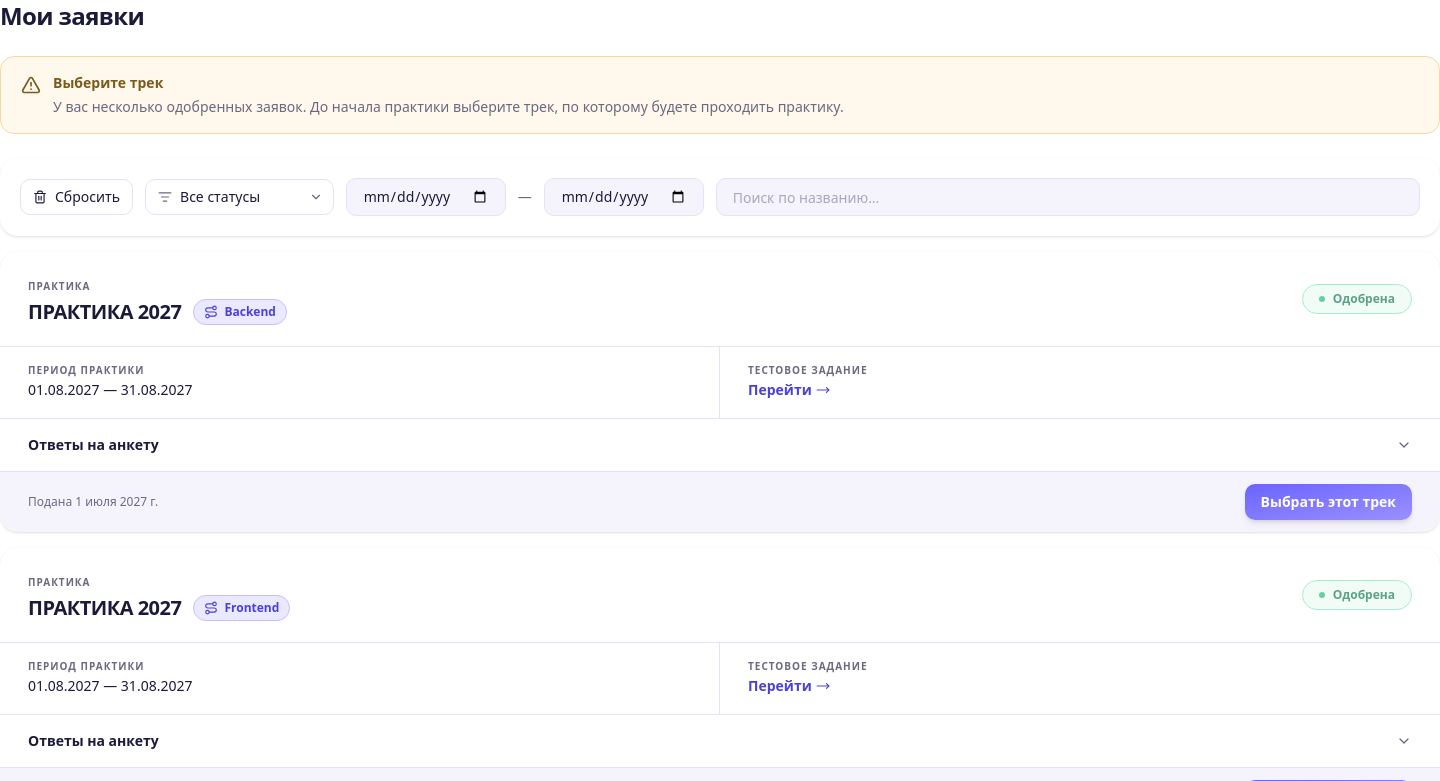
Scenario: DashboardApplicationsPage (архив заявок студента) › запрашивает подтверждение перед выбором одного из нескольких одобренных треков
What coordinates should you click on to do the following:
click the 1st button "Выбрать этот трек"
I would click on:
 (1328, 502)
Its box is [1245,484,1412,520].
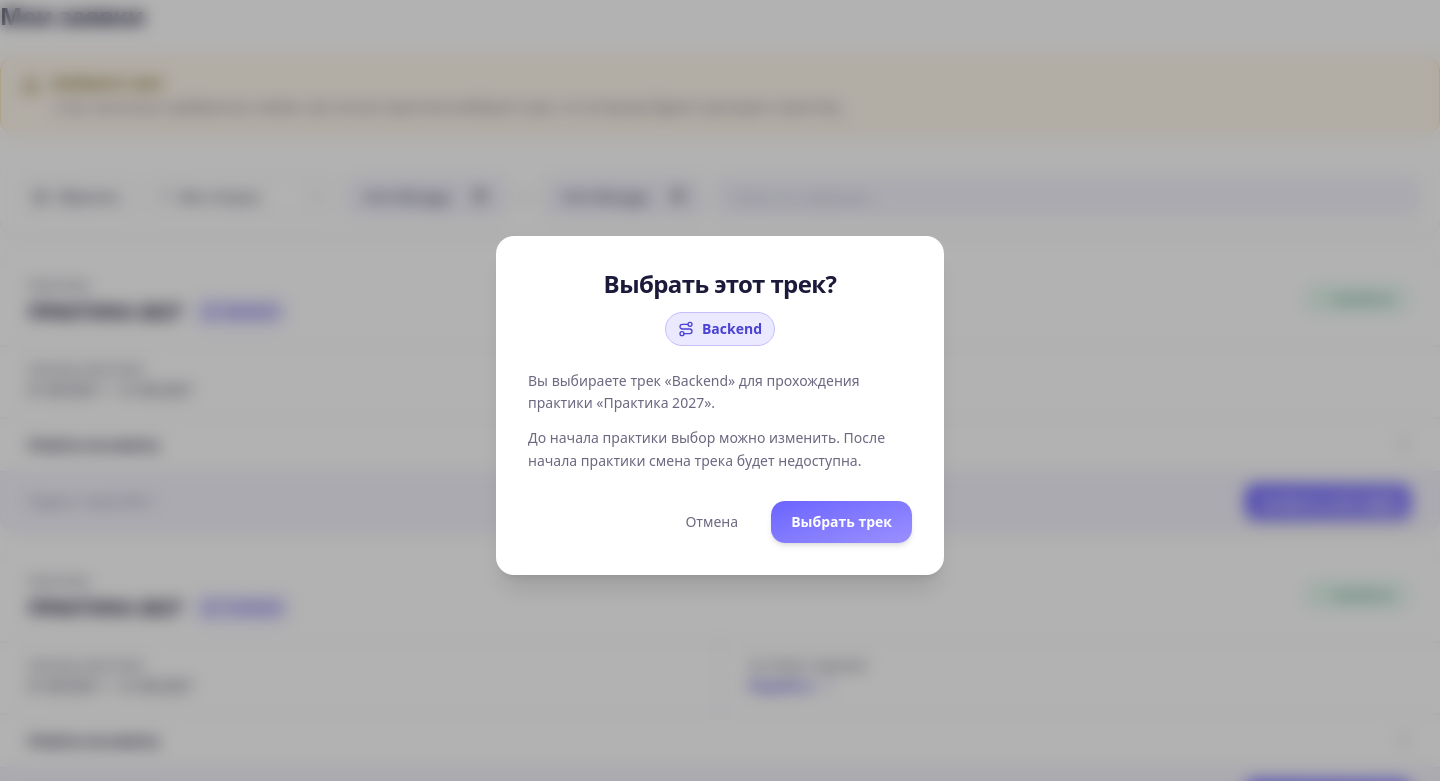
Expected: the heading "Выбрать этот трек?" is shown, [604,266,836,300]
What coordinates should you click on to do the following:
click the button "Выбрать трек"
I would click on:
 (842, 522)
Its box is [771,500,912,542].
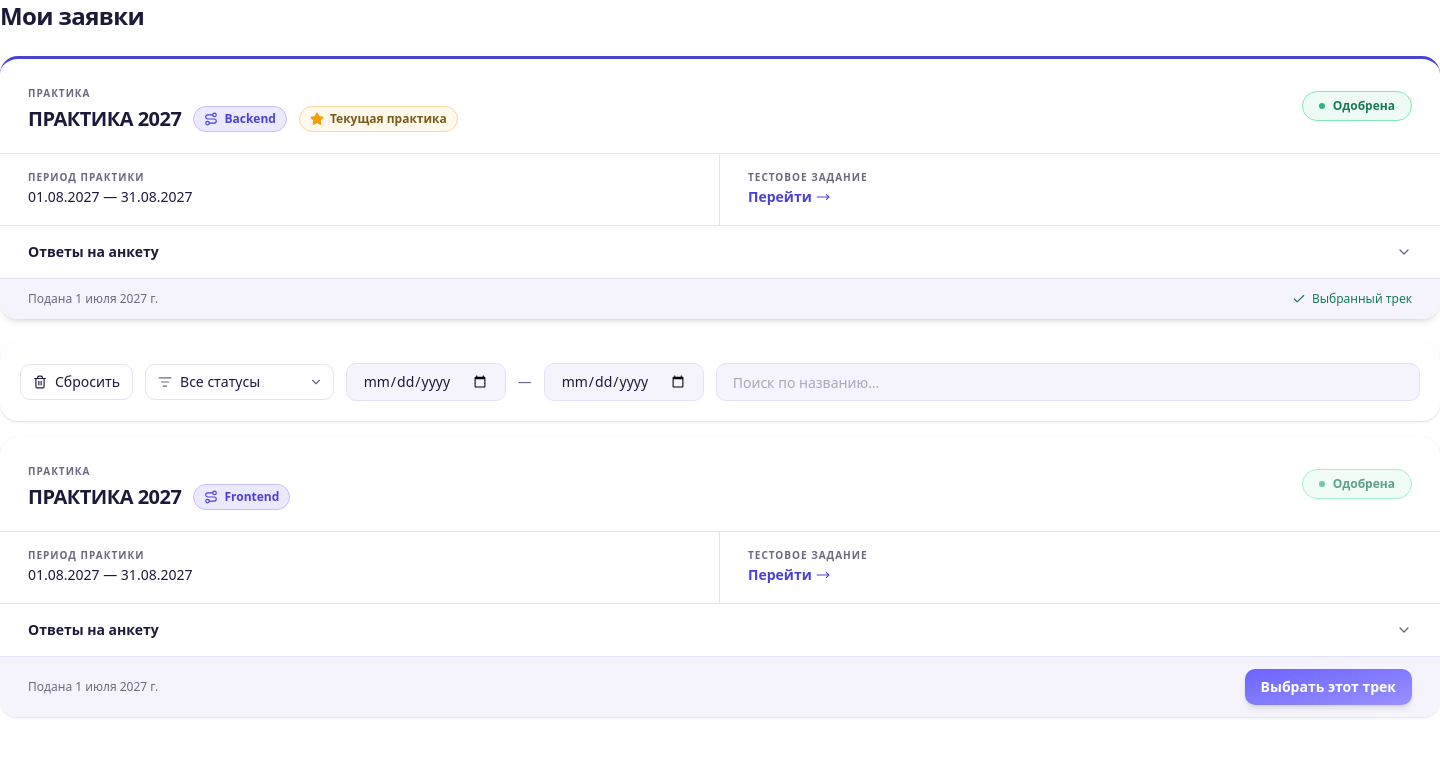
Expected: the text "Выбранный трек" is shown, [1292,291,1412,307]
